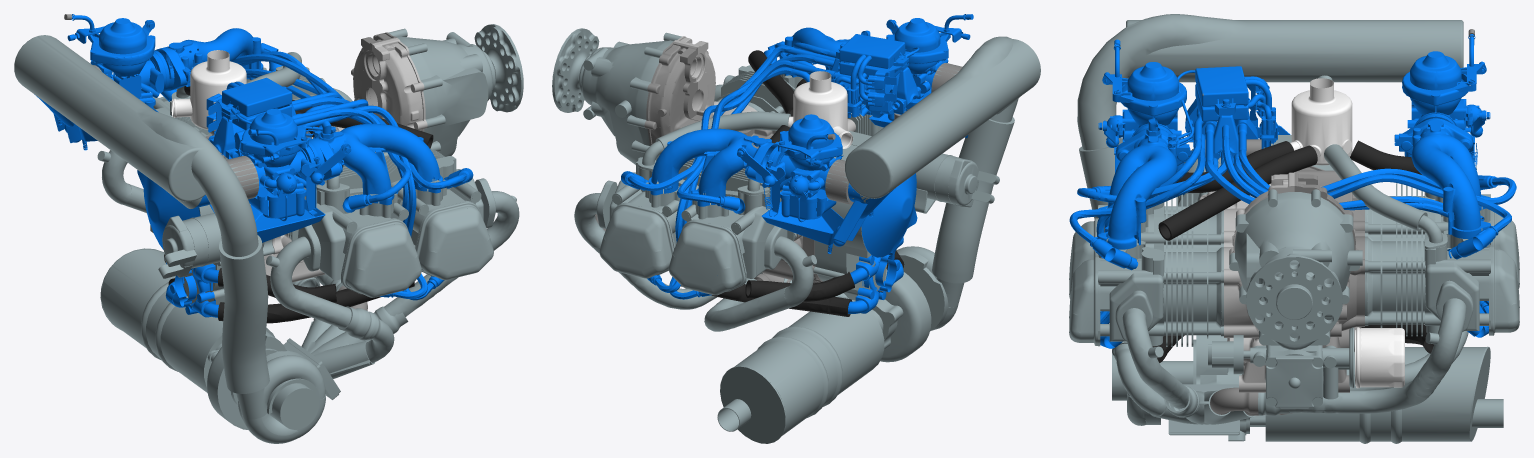
Rendered from Rotax_914.glb.
3 renders of one model, left to right at view 1: azimuth 30°, elevation 25°; view 2: azimuth 150°, elevation 25°; view 3: azimuth 270°, elevation 25°, orthographic. The views are drawn at different scales.
Visible parts, largest first — view 1: Vhodnoy kollektor, COMPOUND, COMPOUND.004, Truba vyhlopnaya, COMPOUND.002, Turbina 1, Korpus reduktora, Patrubok vhodnoy, Rotax 914.001, Rotax 914.002, Pravyi karter 1, Cylindr 1 (+18 smaller); view 2: Truba vyhlopnaya, COMPOUND.002, Vhodnoy kollektor, COMPOUND.004, Korpus reduktora, Turbina 1, Patrubok vhodnoy, Levyi karter 1, Rotax 914, Rotax 914.003, COMPOUND, Rotax 914.004 (+15 smaller); view 3: Vhodnoy kollektor, COMPOUND.004, COMPOUND.002, Truba vyhlopnaya, COMPOUND, Cylindr 2, Cylindr 1.001, Korpus reduktora, Flanec vala 1, Koleno3, Pravyi karter 1, Bachek (+25 smaller).
Boxes of the visible parts, box(x1,y1,x2,y2) form: Vhodnoy kollektor: box(14, 35, 258, 256); COMPOUND: box(194, 109, 443, 242); COMPOUND.004: box(161, 43, 473, 300); Truba vyhlopnaya: box(100, 248, 274, 392); COMPOUND.002: box(34, 14, 263, 150); Turbina 1: box(207, 331, 338, 443); Korpus reduktora: box(388, 28, 495, 156); Patrubok vhodnoy: box(219, 235, 269, 393); Rotax 914.001: box(341, 219, 421, 297); Rotax 914.002: box(416, 201, 493, 280); Pravyi karter 1: box(264, 38, 427, 282); Cylindr 1: box(288, 165, 408, 286); Truba vyhlopnaya: box(717, 296, 896, 443); COMPOUND.002: box(648, 114, 895, 253); Vhodnoy kollektor: box(825, 36, 1040, 204); COMPOUND.004: box(621, 34, 921, 299); Korpus reduktora: box(579, 32, 681, 164); Turbina 1: box(835, 246, 964, 362); Patrubok vhodnoy: box(932, 117, 1014, 283); Levyi karter 1: box(644, 41, 822, 283); Rotax 914: box(848, 173, 917, 313); Rotax 914.003: box(668, 220, 745, 295); COMPOUND: box(784, 14, 973, 138); Rotax 914.004: box(599, 203, 673, 278); Vhodnoy kollektor: box(1077, 14, 1463, 150); COMPOUND.004: box(1069, 66, 1516, 348); COMPOUND.002: box(1394, 34, 1490, 238); Truba vyhlopnaya: box(1246, 346, 1503, 443); COMPOUND: box(1098, 39, 1193, 249); Cylindr 2: box(1098, 231, 1223, 346); Cylindr 1.001: box(1365, 222, 1491, 336); Korpus reduktora: box(1229, 189, 1362, 350); Flanec vala 1: box(1246, 253, 1342, 344); Koleno3: box(1289, 280, 1473, 413); Pravyi karter 1: box(1199, 172, 1294, 392); Bachek: box(1290, 78, 1352, 165).
Size of the model in its own units: 0.6616 by 0.5189 by 0.5757.
